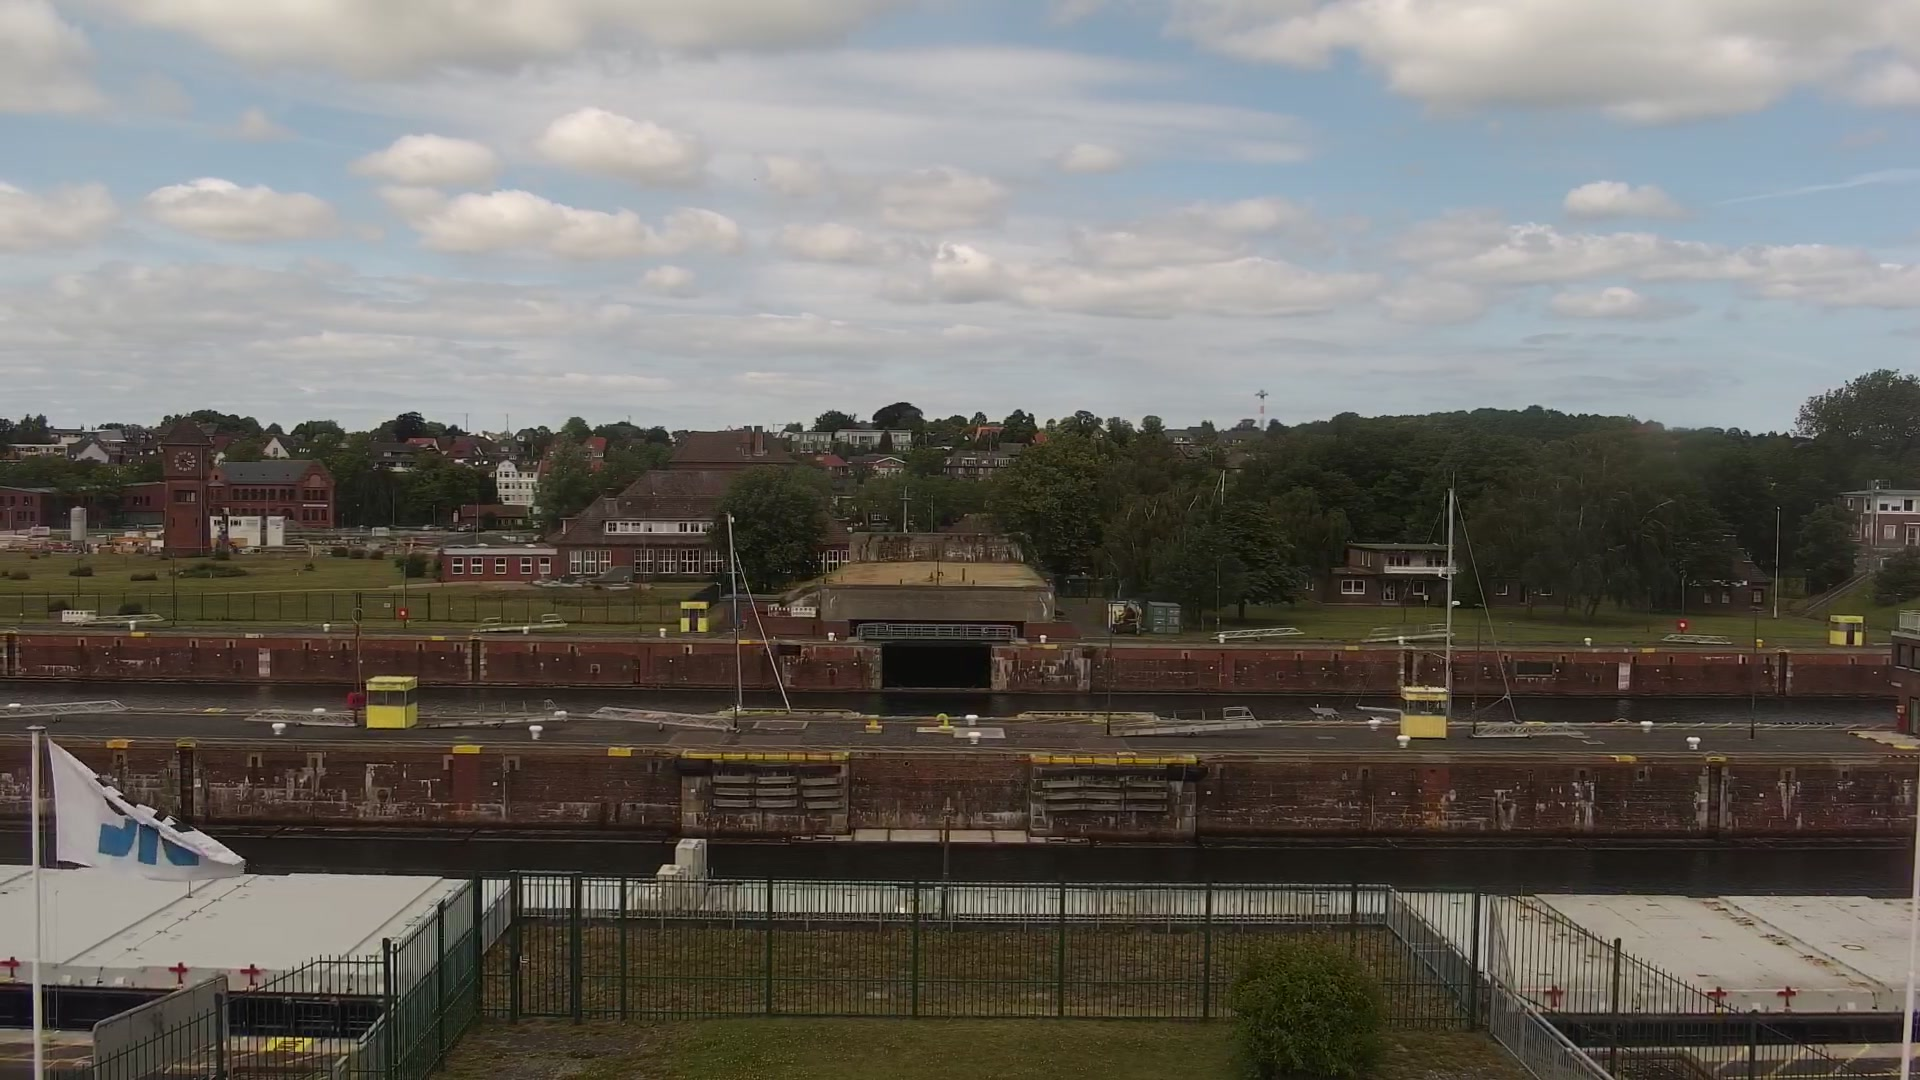land: (421, 524, 440, 531), (458, 524, 472, 531), (472, 525, 487, 531)
sea: (1, 836, 1919, 1044), (717, 508, 796, 713)
